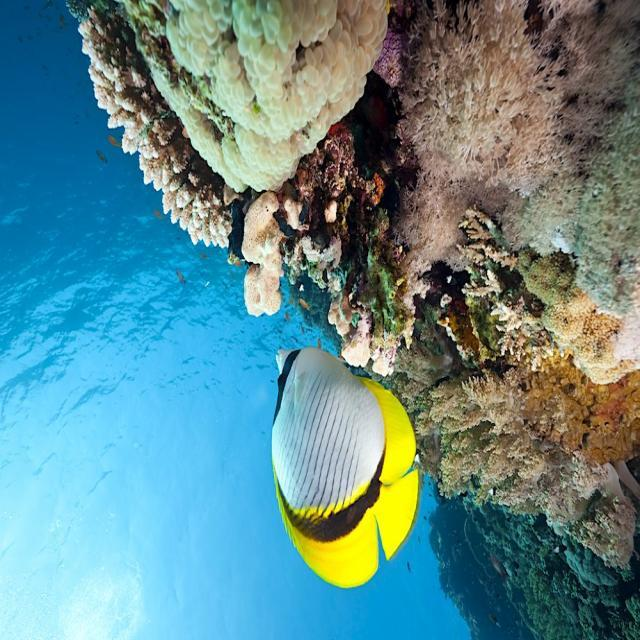ButterflyFish: (249, 340, 436, 596)
